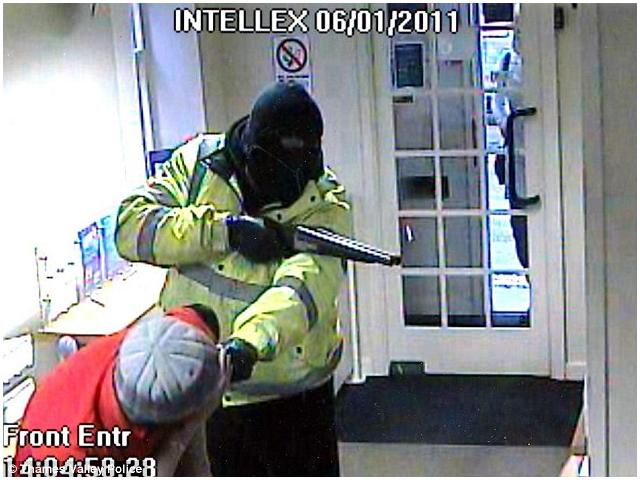pistol: (231, 208, 410, 291)
